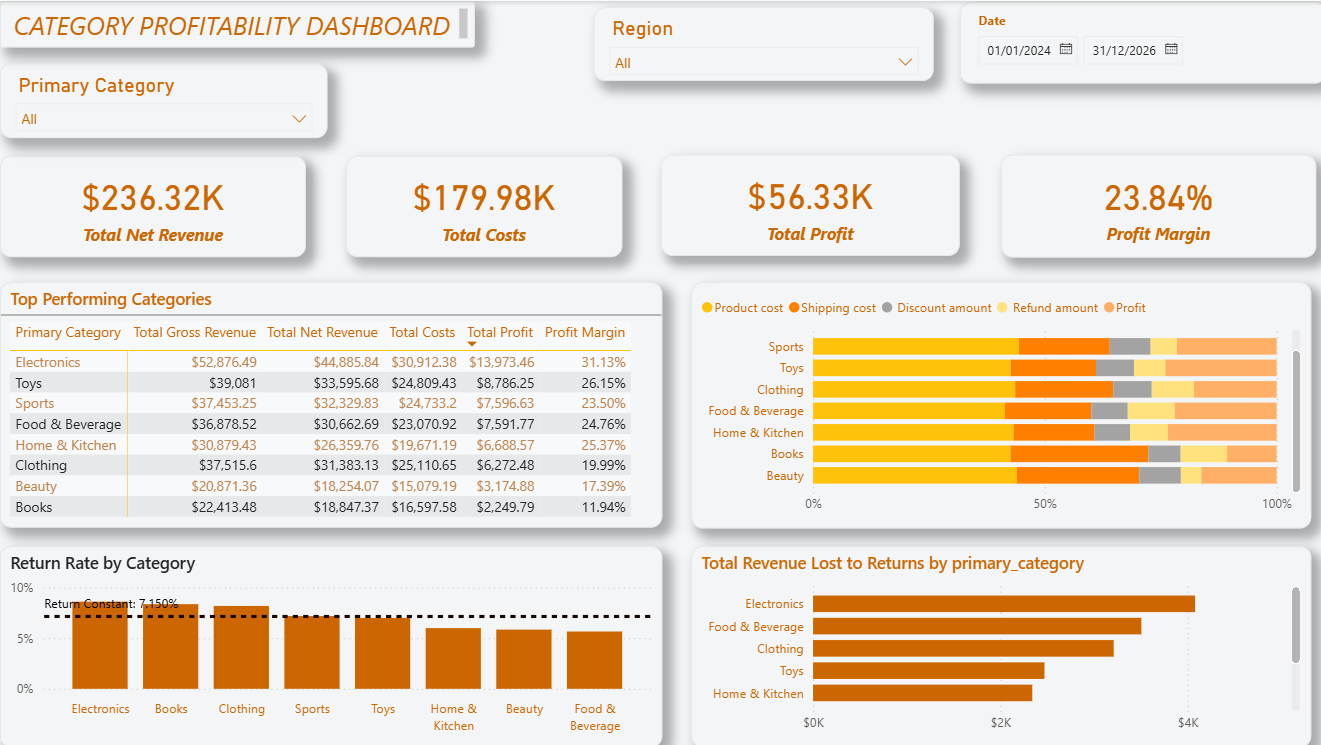

The dashboard page shown, as its layout file describes it:
{"tool":"powerbi","page":{"name":"Category Dashboard ","canvas":[1280,720],"ordinal":0},"visuals":[{"type":"textbox","box":[0,0,458.4,44.6],"z":0},{"type":"slicer","fields":{"Values":["fact_orders_table.primary_category"]},"box":[0,60.3,316.1,72.4],"z":1000},{"type":"slicer","fields":{"Values":["fact_orders_table.region"]},"box":[573.1,6,328.2,71.2],"z":2000},{"type":"slicer","fields":{"Values":["dim_Calendar.Date"]},"box":[926.5,1.2,353.5,78.4],"z":3000},{"type":"card","fields":{"Values":["_Measures.Total Net Revenue"]},"box":[0,149.6,295.6,97.7],"z":4000},{"type":"card","fields":{"Values":["_Measures.Total Costs"]},"box":[334.2,149.6,266.6,97.7],"z":5000},{"type":"card","fields":{"Values":["_Measures.Total Profit"]},"box":[638.2,148.4,288.3,97.7],"z":6000},{"type":"card","fields":{"Values":["_Measures.Profit Margin"]},"box":[966.4,148.4,304,98.9],"z":7000},{"type":"pivotTable","title":"Top Performing Categories","fields":{"Rows":["fact_orders_table.primary_category"],"Values":["_Measures.Total Gross Revenue","_Measures.Total Net Revenue","_Measures.Total Costs","_Measures.Total Profit","_Measures.Profit Margin"]},"box":[0,271.4,639.4,236.5],"z":8000},{"type":"hundredPercentStackedBarChart","fields":{"Category":["fact_orders_table.primary_category"],"Y":["Sum(fact_orders_table.product_cost)","Sum(fact_orders_table.shipping_cost)","Sum(fact_orders_table.discount_amount)","Sum(fact_orders_table.refund_amount)","Sum(fact_orders_table.profit)"]},"box":[667.2,271.4,598.4,237.7],"z":9000},{"type":"clusteredColumnChart","title":"Return Rate by Category","fields":{"Category":["fact_orders_table.primary_category"],"Y":["_Measures.Return Rate"]},"box":[0,526,639.4,194.2],"z":10000},{"type":"clusteredBarChart","fields":{"Category":["fact_orders_table.primary_category"],"Y":["_Measures.Total Revenue Lost to Returns"]},"box":[667,526,598,194],"z":11000}]}

Visuals, with their boxes in screenshot pixels (x1, y1, x2, y2), scaled from the page's 1280x720 canvas onto the 1321x745 screenshot:
textbox: 0/0/473/46
slicer - fact_orders_table.primary_category: 0/62/326/137
slicer - fact_orders_table.region: 591/6/930/80
slicer - dim_Calendar.Date: 956/1/1320/82
card - _Measures.Total Net Revenue: 0/155/305/256
card - _Measures.Total Costs: 345/155/620/256
card - _Measures.Total Profit: 659/154/956/255
card - _Measures.Profit Margin: 997/154/1311/256
"Top Performing Categories" pivotTable: 0/281/660/526
hundredPercentStackedBarChart - fact_orders_table.primary_category x Sum(fact_orders_table.product_cost): 689/281/1306/527
"Return Rate by Category" clusteredColumnChart: 0/544/660/744
clusteredBarChart - fact_orders_table.primary_category x _Measures.Total Revenue Lost to Returns: 688/544/1306/744
